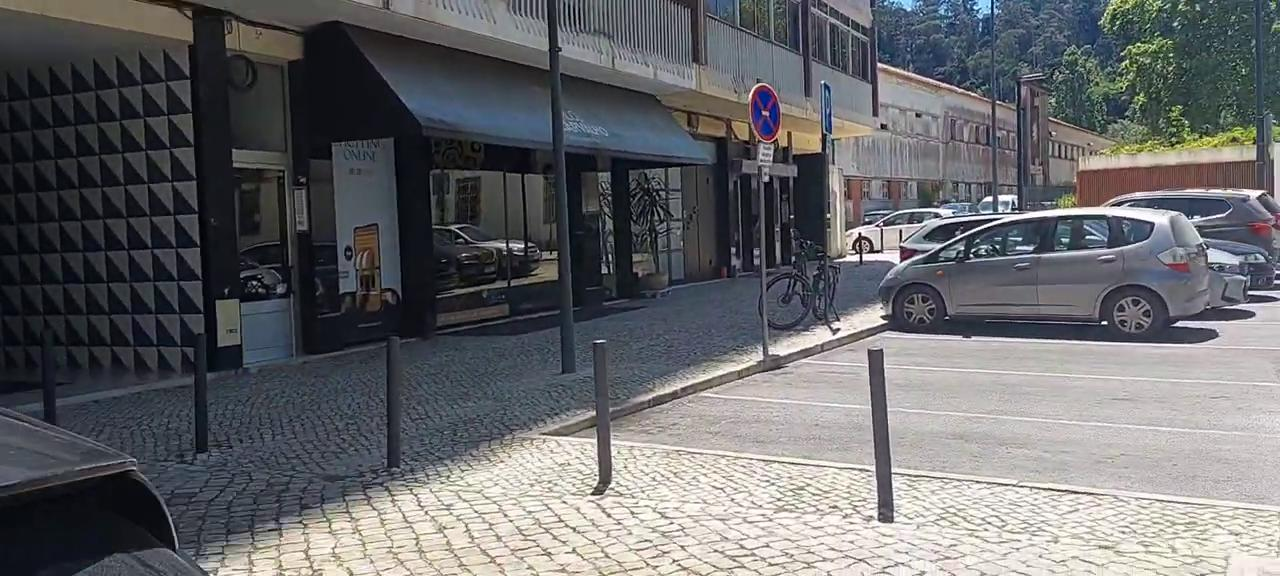paragem e estacionamento proibido: (744, 82, 786, 146)
